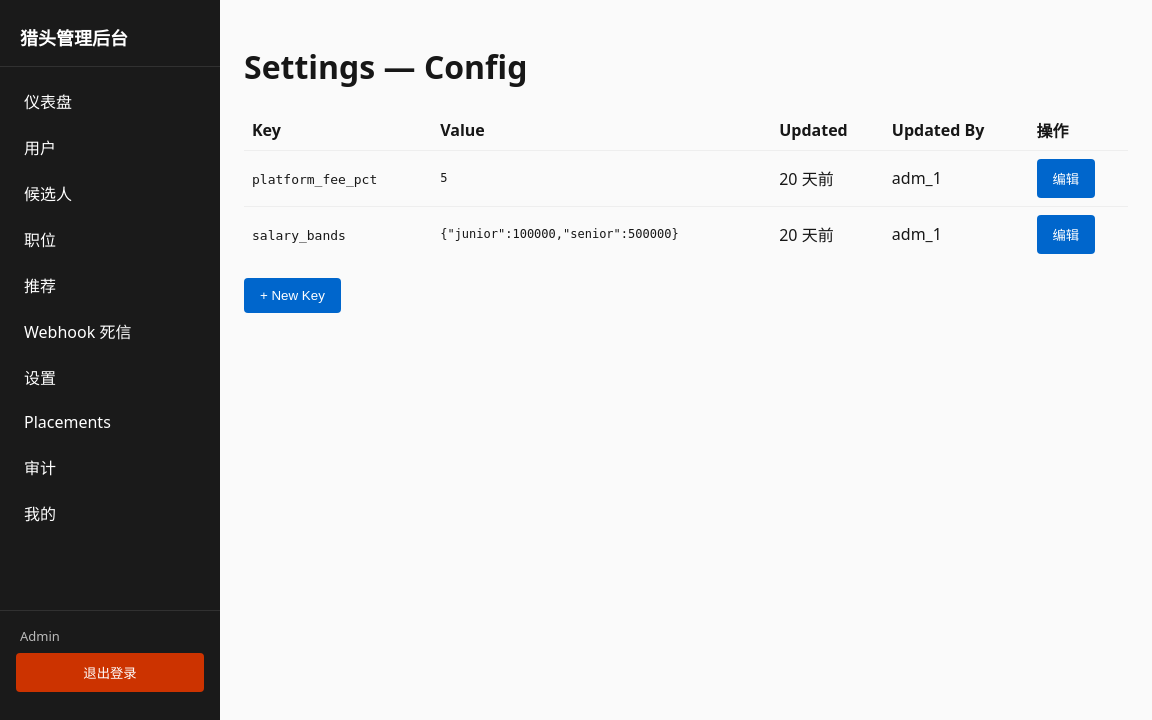
Test case: SettingsPage (Sub-E Config-only) › 4. clicking + New Key opens modal in new mode (key field enabled + empty)
Click the button with test id "config-new" at (292, 295), box [244, 278, 341, 313]
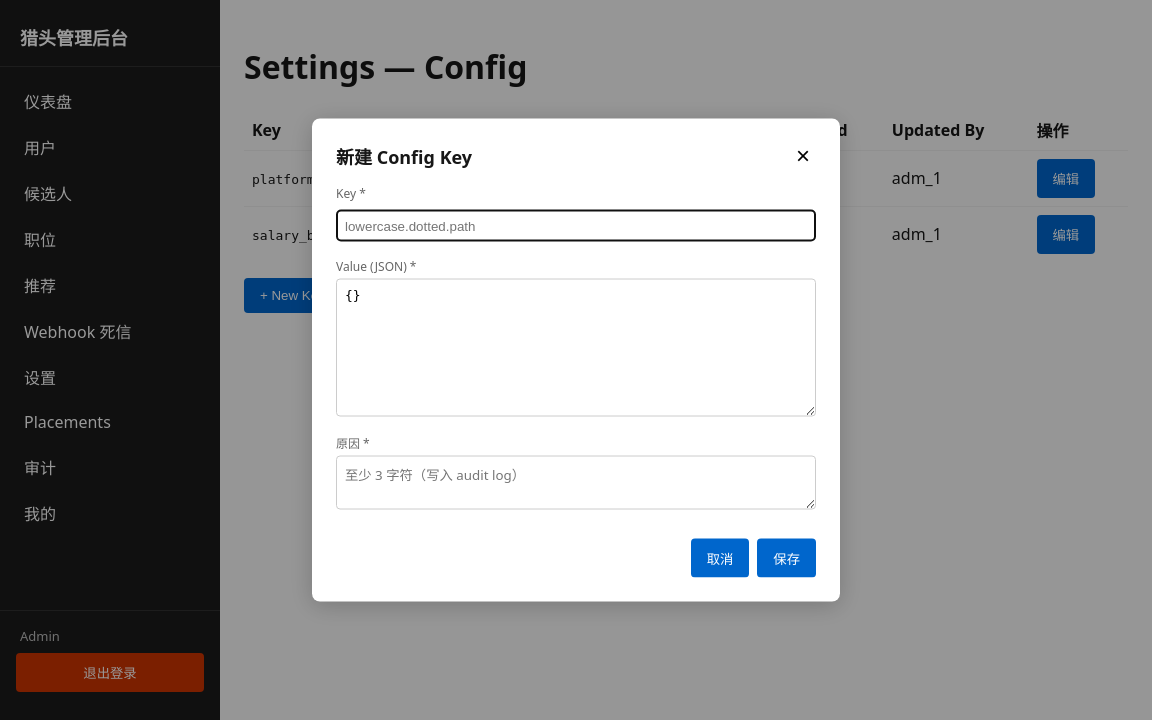
Expected: the field with test id "config-key" is enabled, [336, 210, 816, 242]
Expected: the field with test id "config-key" is empty, [336, 210, 816, 242]
